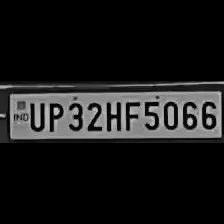0: (160, 96, 180, 130)
2: (83, 98, 103, 132)
3: (64, 98, 84, 132)
5: (140, 96, 160, 130)
6: (178, 98, 198, 130), (197, 98, 217, 130)
F: (122, 98, 139, 132)
H: (102, 98, 122, 132)
P: (44, 98, 64, 132)
U: (24, 99, 43, 131)
